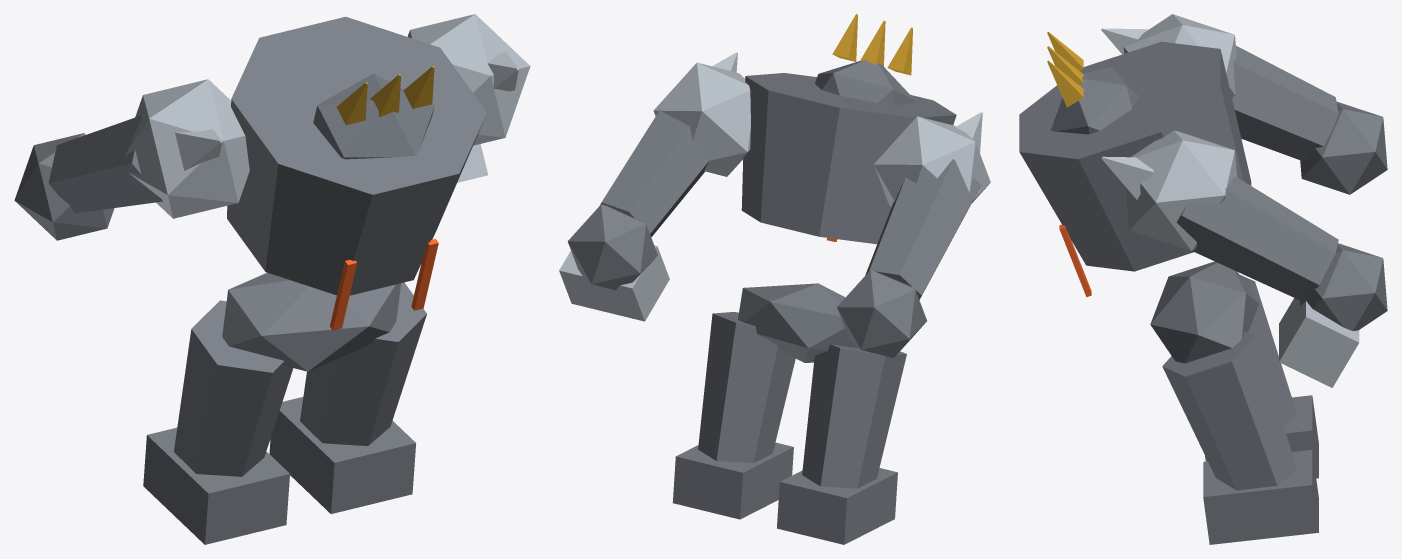
The model's file is npcpose_colossus_attack_05.glb.
3 renders of one model, left to right at view 1: azimuth 30°, elevation 25°; view 2: azimuth 150°, elevation 25°; view 3: azimuth 270°, elevation 25°, orthographic. The views are drawn at different scales.
Parts seen in each view (by area): view 1: npcpose; view 2: npcpose; view 3: npcpose.
Part boxes in pixels (box(x1,y1,x2,y2)): npcpose: box(14, 14, 530, 544); npcpose: box(559, 14, 990, 544); npcpose: box(1019, 14, 1387, 544).
Size of the model in its own units: 2.3 by 2.64 by 1.94.
